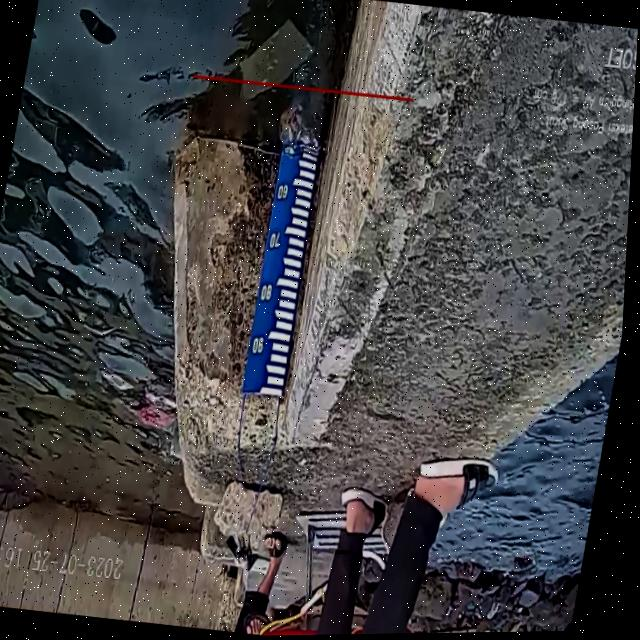water-meter: (228, 105, 335, 406)
